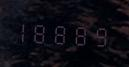eight: (36, 18, 53, 46), (54, 19, 71, 47), (72, 20, 89, 48)
nine: (90, 21, 107, 49)
one: (18, 17, 35, 45)
